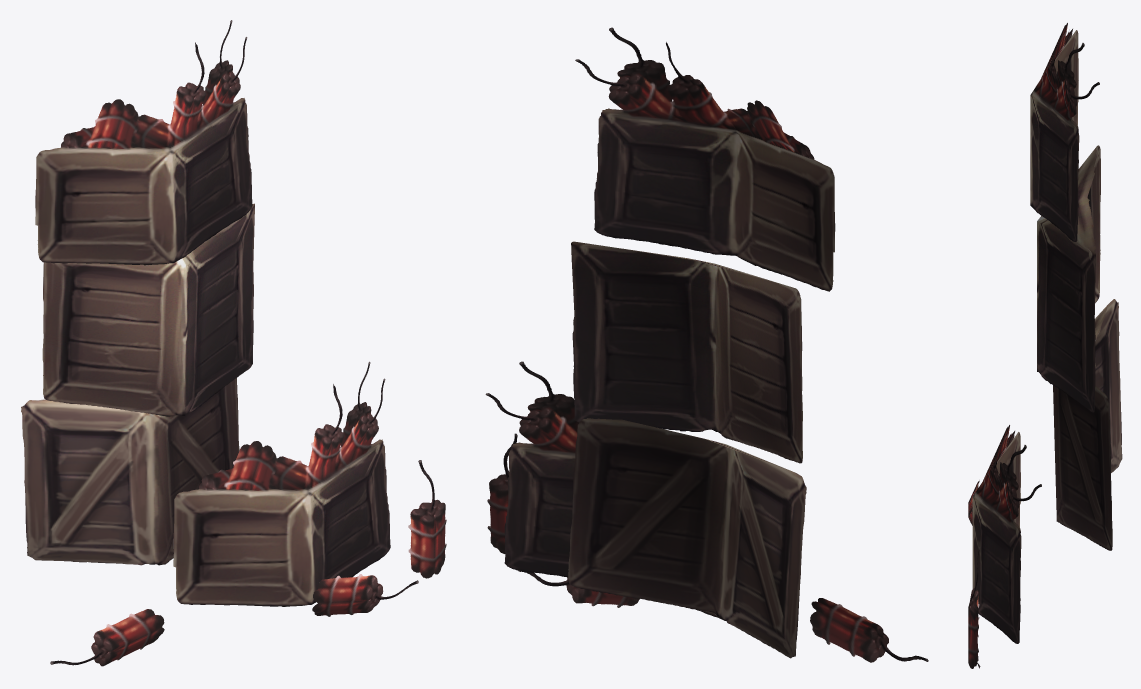
The model's file is Crate TNT Piles.FBX.
3 renders of one model, left to right at view 1: azimuth 30°, elevation 25°; view 2: azimuth 150°, elevation 25°; view 3: azimuth 270°, elevation 25°, orthographic. The views are drawn at different scales.
Visible parts, largest first — view 1: Crate TNT Pile; view 2: Crate TNT Pile; view 3: Crate TNT Pile.
Part boxes in pixels (x1,y1,x2,y2): Crate TNT Pile: (21,20,446,666); Crate TNT Pile: (485,27,928,662); Crate TNT Pile: (968,23,1122,668).
Bounding box in the file's own units: 587 × 195 × 809.
